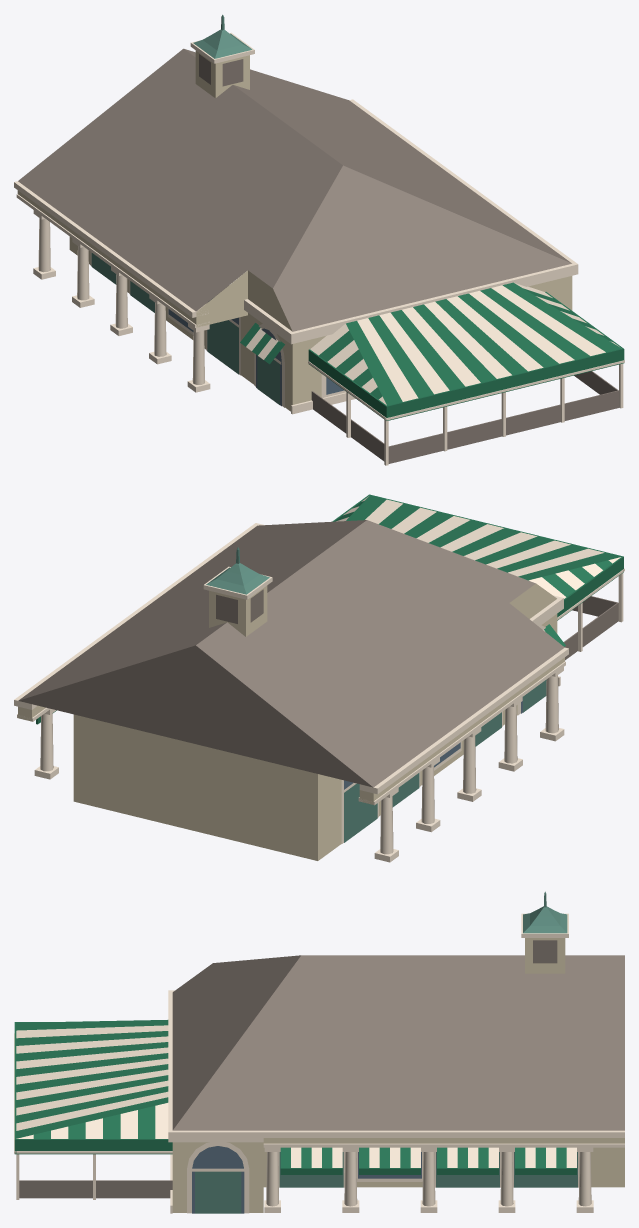
The model's file is nola-cafe-du-monde.glb.
3 views of the same model, one above another, from view 1: azimuth 30°, elevation 25°; view 2: azimuth 150°, elevation 25°; view 3: azimuth 270°, elevation 25° (orthographic). The views are drawn at different scales.
Parts seen in each view (by area): view 1: Café du Monde; view 2: Café du Monde; view 3: Café du Monde.
Boxes of the visible parts, left/top/right/bottom form: Café du Monde: left=14, top=14, right=624, bottom=465; Café du Monde: left=14, top=494, right=624, bottom=862; Café du Monde: left=14, top=891, right=624, bottom=1213.
Size of the model in its own units: 19.82 by 13.1 by 30.26.
